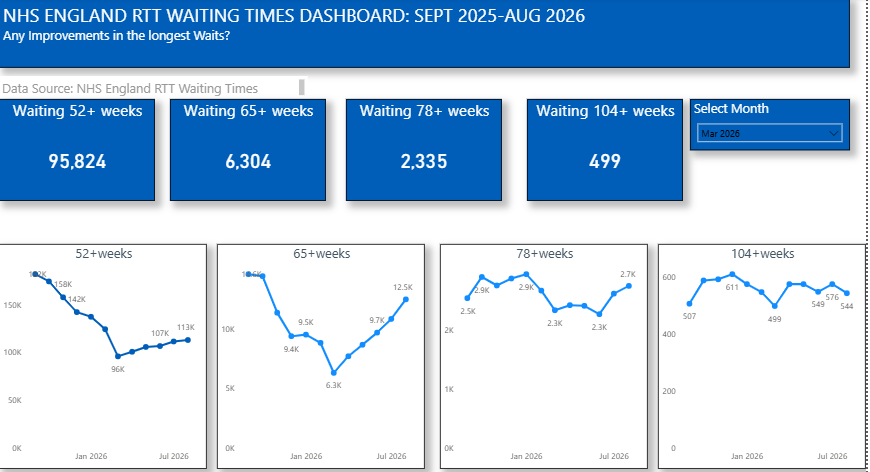

What the dashboard file says about the page in this screenshot:
{"tool":"powerbi","page":{"name":"Long Waits","canvas":[1280,720],"ordinal":2},"visuals":[{"type":"textbox","box":[11.8,0,1244.7,102.5],"z":0},{"type":"textbox","box":[149.5,297.3,181.4,97.4],"z":1000},{"type":"textbox","box":[11.8,114.2,451.9,33.6],"z":2000},{"type":"slicer","title":"Select Month","fields":{"Values":["rtt_powerbi.period"]},"box":[1022.9,147.8,234.1,74.6],"z":3000},{"type":"card","title":"Waiting 52+ weeks","fields":{"Values":["rtt_powerbi.Waiting 52 Latest"]},"box":[11.7,147.8,228.3,149.3],"z":4000},{"type":"card","title":"Waiting 65+ weeks","fields":{"Values":["rtt_powerbi.Over 65 Latest"]},"box":[262,147.8,228.3,149.3],"z":5000},{"type":"card","title":"Waiting 78+ weeks","fields":{"Values":["rtt_powerbi.Over 78 Latest"]},"box":[519.5,147.8,228.3,149.3],"z":6000},{"type":"card","title":"Waiting 104+ weeks","fields":{"Values":["rtt_powerbi.Over 104 Latest"]},"box":[784.4,147.8,228.3,149.3],"z":7000},{"type":"lineChart","title":"52+weeks","fields":{"Category":["rtt_powerbi.period"],"Y":["Sum(rtt_powerbi.over_52)"]},"box":[11.7,360,304.4,329.3],"z":8000},{"type":"lineChart","title":"65+weeks","fields":{"Category":["rtt_powerbi.period"],"Y":["Sum(rtt_powerbi.over_65)"]},"box":[330.7,360,304.4,329.3],"z":9000},{"type":"lineChart","title":"78+weeks","fields":{"Category":["rtt_powerbi.period"],"Y":["Sum(rtt_powerbi.over_78)"]},"box":[657.1,360,304.4,329.3],"z":10000},{"type":"lineChart","title":"104+weeks","fields":{"Category":["rtt_powerbi.period"],"Y":["Sum(rtt_powerbi.over_104)"]},"box":[976.1,360,304.4,329.3],"z":11000}]}

Visuals, with their boxes on the page's 1280x720 design canvas (x1, y1, x2, y2). These are canvas units, not pixel positions in the 870x472 screenshot, which may show the page scaled, cropped or inside an application window:
textbox: {"x1": 12, "y1": 0, "x2": 1256, "y2": 102}
textbox: {"x1": 150, "y1": 297, "x2": 331, "y2": 395}
textbox: {"x1": 12, "y1": 114, "x2": 464, "y2": 148}
"Select Month" slicer: {"x1": 1023, "y1": 148, "x2": 1257, "y2": 222}
"Waiting 52+ weeks" card: {"x1": 12, "y1": 148, "x2": 240, "y2": 297}
"Waiting 65+ weeks" card: {"x1": 262, "y1": 148, "x2": 490, "y2": 297}
"Waiting 78+ weeks" card: {"x1": 520, "y1": 148, "x2": 748, "y2": 297}
"Waiting 104+ weeks" card: {"x1": 784, "y1": 148, "x2": 1013, "y2": 297}
"52+weeks" lineChart: {"x1": 12, "y1": 360, "x2": 316, "y2": 689}
"65+weeks" lineChart: {"x1": 331, "y1": 360, "x2": 635, "y2": 689}
"78+weeks" lineChart: {"x1": 657, "y1": 360, "x2": 962, "y2": 689}
"104+weeks" lineChart: {"x1": 976, "y1": 360, "x2": 1280, "y2": 689}
